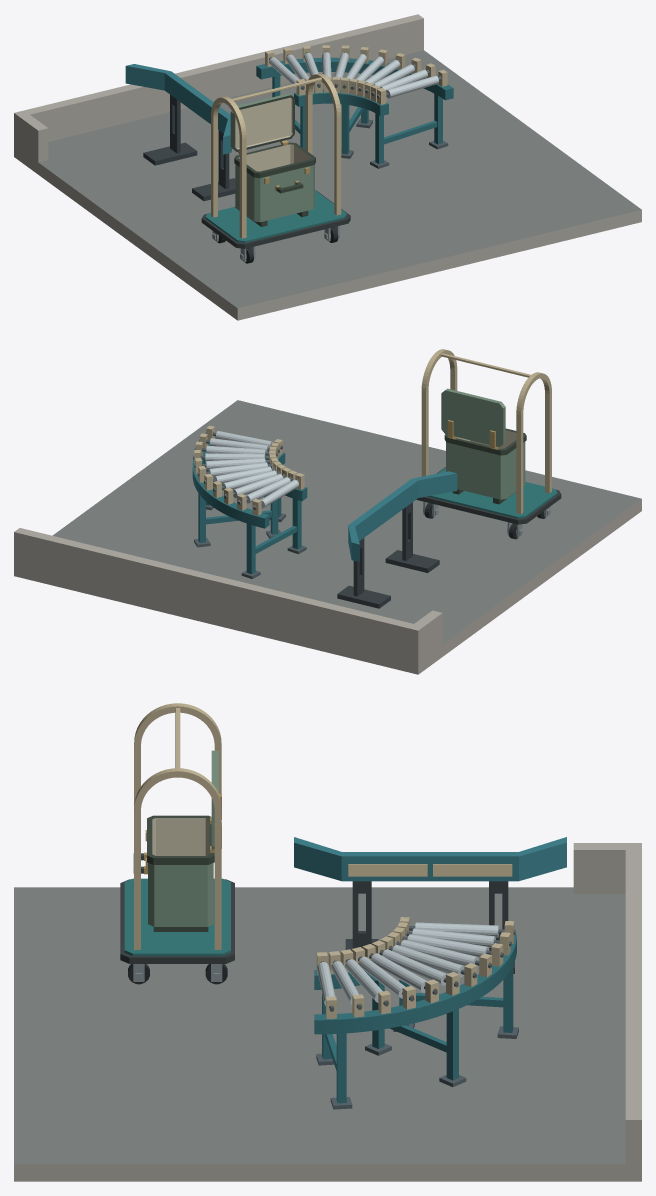
The picture shows the model from 3 angles, top to bottom: view 1: azimuth 30°, elevation 25°; view 2: azimuth 150°, elevation 25°; view 3: azimuth 270°, elevation 25°; orthographic projection. The views are drawn at different scales.
Visible parts, largest first — view 1: SCENE_ONLY__ReclaimApronAndLowBoundary, case__DeepCase_ContinuousSteppedShell, trolley__IntegralLowFlatDeckAndPerimeter, case__SingleUprightCover_ContinuousRecessedShell, guide__OneContinuousFlaredGuideWall, trolley__WholeArchedEndFrame_Left, trolley__WholeArchedEndFrame_Right, curve__Outer_ContinuousQuarterAnnularBeam, curve__Inner_ContinuousQuarterAnnularBeam, guide__Right_BroadFlatFoot, guide__Right_ThroughSlotStanchion, guide__Left_ThroughSlotStanchion (+4 smaller); view 2: SCENE_ONLY__ReclaimApronAndLowBoundary, case__DeepCase_ContinuousSteppedShell, case__SingleUprightCover_ContinuousRecessedShell, trolley__IntegralLowFlatDeckAndPerimeter, guide__OneContinuousFlaredGuideWall, trolley__WholeArchedEndFrame_Left, trolley__WholeArchedEndFrame_Right, curve__Outer_ContinuousQuarterAnnularBeam, guide__Left_BroadFlatFoot, guide__Right_BroadFlatFoot, guide__Left_ThroughSlotStanchion, guide__Right_ThroughSlotStanchion (+1 smaller); view 3: SCENE_ONLY__ReclaimApronAndLowBoundary, case__DeepCase_ContinuousSteppedShell, guide__OneContinuousFlaredGuideWall, trolley__IntegralLowFlatDeckAndPerimeter, curve__Outer_ContinuousQuarterAnnularBeam, trolley__WholeArchedEndFrame_Right, trolley__WholeArchedEndFrame_Left, guide__Left_ThroughSlotStanchion, guide__Left_FrontWearStrip, guide__Right_FrontWearStrip, curve__Support2_Outer_Upright, curve__Radial07_SolidRoller (+9 smaller).
Part boxes in pixels (x1,y1,x2,y2): SCENE_ONLY__ReclaimApronAndLowBoundary: (14,14,641,320); case__DeepCase_ContinuousSteppedShell: (234,142,315,222); trolley__IntegralLowFlatDeckAndPerimeter: (201,190,350,248); case__SingleUprightCover_ContinuousRecessedShell: (230,93,294,151); guide__OneContinuousFlaredGuideWall: (125,64,232,154); trolley__WholeArchedEndFrame_Left: (211,96,246,238); trolley__WholeArchedEndFrame_Right: (305,73,341,215); curve__Outer_ContinuousQuarterAnnularBeam: (256,57,453,100); curve__Inner_ContinuousQuarterAnnularBeam: (294,89,388,115); guide__Right_BroadFlatFoot: (143,142,197,165); guide__Right_ThroughSlotStanchion: (170,95,180,153); guide__Left_ThroughSlotStanchion: (218,130,229,189); SCENE_ONLY__ReclaimApronAndLowBoundary: (14,400,641,674); case__DeepCase_ContinuousSteppedShell: (444,428,526,499); case__SingleUprightCover_ContinuousRecessedShell: (441,388,505,447); trolley__IntegralLowFlatDeckAndPerimeter: (416,467,561,524); guide__OneContinuousFlaredGuideWall: (348,471,457,561); trolley__WholeArchedEndFrame_Left: (516,372,551,514); trolley__WholeArchedEndFrame_Right: (421,349,457,476); curve__Outer_ContinuousQuarterAnnularBeam: (192,436,269,528); guide__Left_BroadFlatFoot: (385,550,439,572); guide__Right_BroadFlatFoot: (337,585,390,608); guide__Left_ThroughSlotStanchion: (402,502,412,560); guide__Right_ThroughSlotStanchion: (353,538,364,596); SCENE_ONLY__ReclaimApronAndLowBoundary: (14,843,641,1181); case__DeepCase_ContinuousSteppedShell: (147,815,214,926); guide__OneContinuousFlaredGuideWall: (294,837,566,881); trolley__IntegralLowFlatDeckAndPerimeter: (120,878,234,963); curve__Outer_ContinuousQuarterAnnularBeam: (314,934,516,1034); trolley__WholeArchedEndFrame_Right: (134,768,221,949); trolley__WholeArchedEndFrame_Left: (134,703,221,806); guide__Left_ThroughSlotStanchion: (352,881,371,948); guide__Left_FrontWearStrip: (348,864,427,876); guide__Right_FrontWearStrip: (433,864,512,876); curve__Support2_Outer_Upright: (446,1009,458,1080); curve__Radial07_SolidRoller: (392,944,464,977).
Size of the model in its own units: 4.8 by 1.89 by 4.6.
